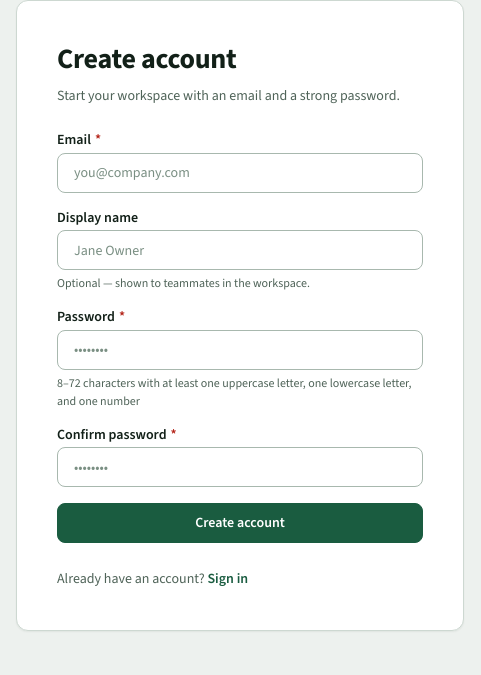
Scenario: RegisterForm › validates email format, password rules, and confirmation mismatch
This screenshot has width=481, height=675.
Type "bad-email" into the field labelled "Email*".
click(240, 173); type("bad-email")  # box [57,153,423,193]
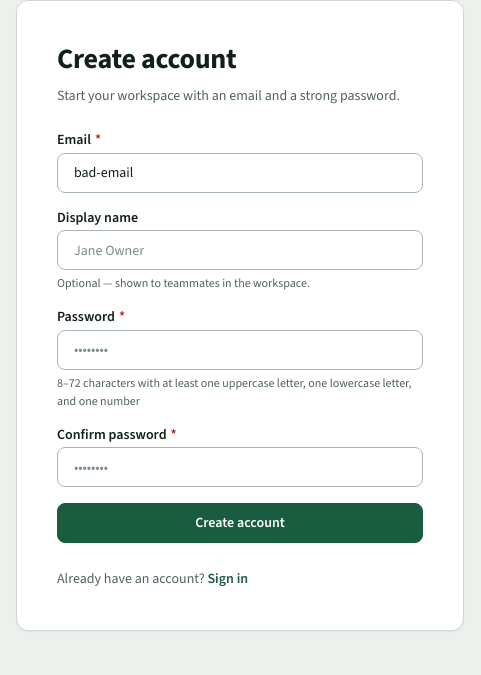
Type "short" into the password field labelled "Password*".
click(240, 350); type("short")  # box [57,330,423,370]
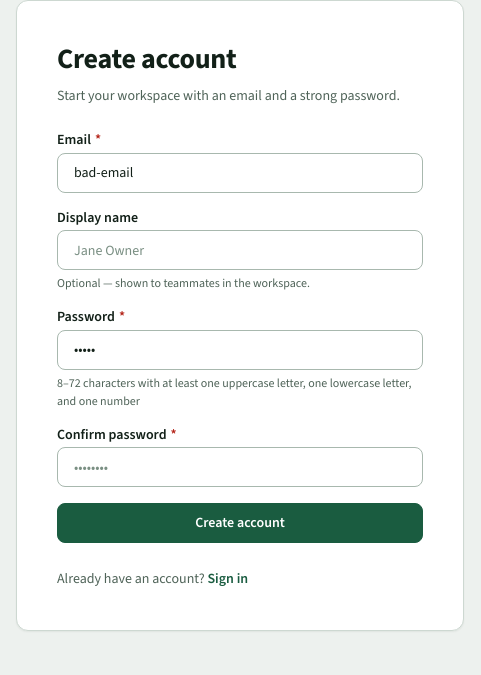
Type "different" into the password field labelled "Confirm password*".
click(240, 467); type("different")  # box [57,447,423,487]
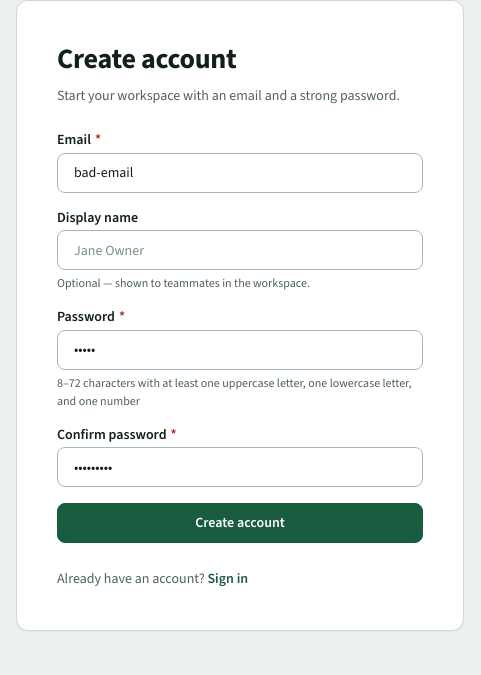
Click the button "Create account".
click(240, 523)  # box [57,503,423,543]
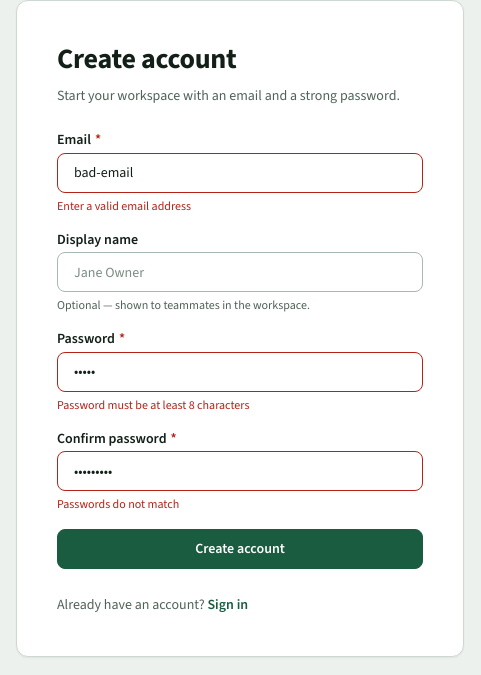
Expected: the text "Enter a valid email address" is shown, [57,198,191,214]
Expected: the text "Password must be at least 8 characters" is shown, [57,397,249,413]
Expected: the text "Passwords do not match" is shown, [57,496,179,512]
